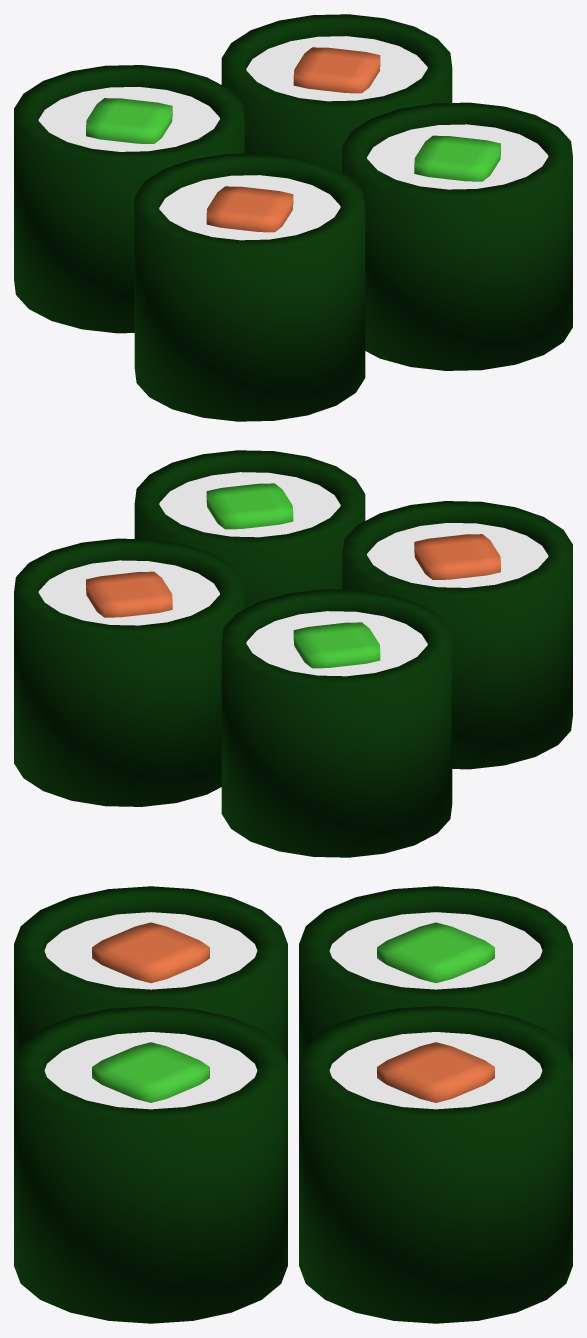
File: rl_sushi_1.fbx
The picture shows the model from 3 angles, top to bottom: view 1: azimuth 30°, elevation 25°; view 2: azimuth 150°, elevation 25°; view 3: azimuth 270°, elevation 25°; orthographic projection. The views are drawn at different scales.
Visible parts, largest first — view 1: seaweed.003, seaweed.002, seaweed.001, seaweed, rice.002, rice, rice.001, rice.003, filling, filling.003, filling.002, filling.001; view 2: seaweed.001, seaweed, seaweed.003, seaweed.002, rice, rice.002, rice.003, rice.001, filling.001, filling.002, filling, filling.003; view 3: seaweed, seaweed.002, seaweed.001, seaweed.003, rice, rice.002, rice.001, rice.003, filling, filling.002, filling.001, filling.003.
Boxes of the visible parts, x1,y1,x2,y2 form: seaweed.003: (134, 153, 365, 421); seaweed.002: (342, 102, 572, 370); seaweed.001: (14, 65, 244, 333); seaweed: (221, 14, 452, 172); rice.002: (367, 124, 548, 189); rice: (246, 36, 427, 101); rice.001: (38, 87, 219, 151); rice.003: (159, 175, 340, 240); filling: (293, 47, 380, 93); filling.003: (206, 186, 293, 232); filling.002: (414, 135, 500, 181); filling.001: (86, 98, 172, 143); seaweed.001: (221, 589, 452, 857); seaweed: (14, 538, 244, 806); seaweed.003: (342, 501, 572, 769); seaweed.002: (134, 450, 365, 608); rice: (38, 560, 219, 625); rice.002: (159, 472, 340, 537); rice.003: (367, 523, 548, 587); rice.001: (246, 611, 427, 676); filling.001: (293, 622, 380, 668); filling.002: (206, 483, 293, 529); filling: (86, 571, 172, 617); filling.003: (414, 534, 500, 579); seaweed: (299, 1006, 572, 1323); seaweed.002: (14, 1006, 287, 1323); seaweed.001: (299, 886, 572, 1063); seaweed.003: (14, 886, 287, 1063); rice: (329, 1032, 542, 1109); rice.002: (44, 1032, 257, 1109); rice.001: (329, 912, 542, 989); rice.003: (44, 912, 257, 989); filling: (377, 1042, 494, 1102); filling.002: (92, 1042, 209, 1102); filling.001: (377, 922, 494, 983); filling.003: (92, 922, 209, 983).
Bounding box in the file's own units: 407 × 163 × 408.
